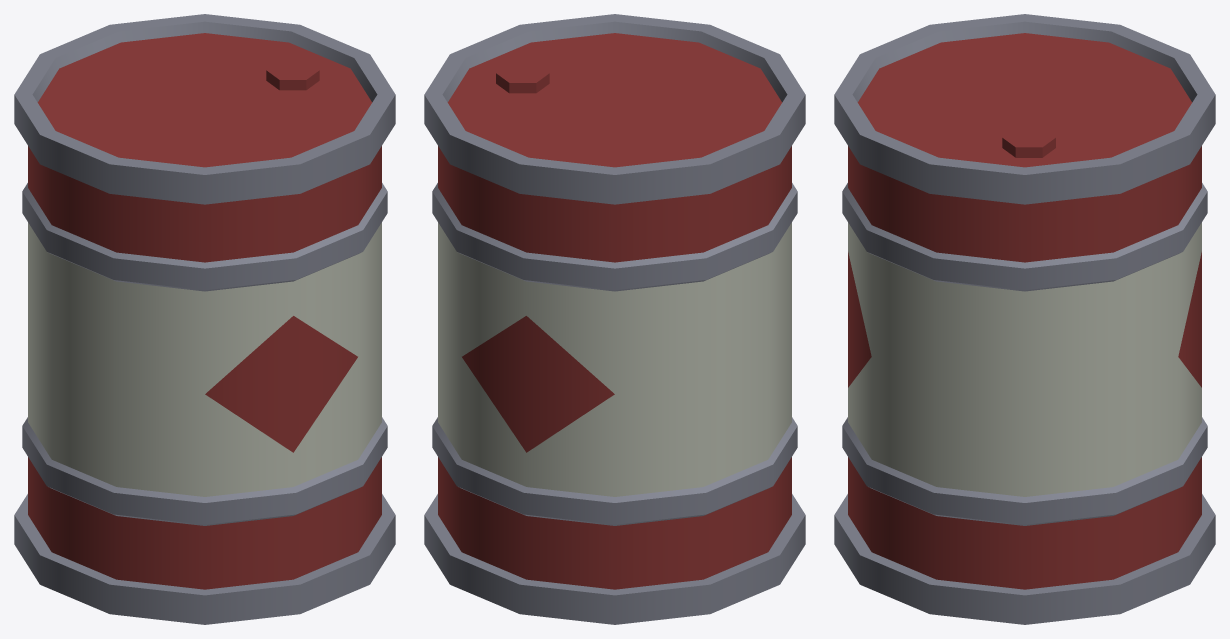
Rendered from barrel.glb.
The picture shows the model from 3 angles, left to right: view 1: azimuth 30°, elevation 25°; view 2: azimuth 150°, elevation 25°; view 3: azimuth 270°, elevation 25°; orthographic projection.
Parts seen in each view (by area): view 1: ExplodingBarrel; view 2: ExplodingBarrel; view 3: ExplodingBarrel.
Boxes of the visible parts, x1,y1,x2,y2 form: ExplodingBarrel: (14, 14, 395, 624); ExplodingBarrel: (424, 14, 805, 624); ExplodingBarrel: (834, 14, 1215, 624).
Size of the model in its own units: 0.843 by 1.1 by 0.843.
